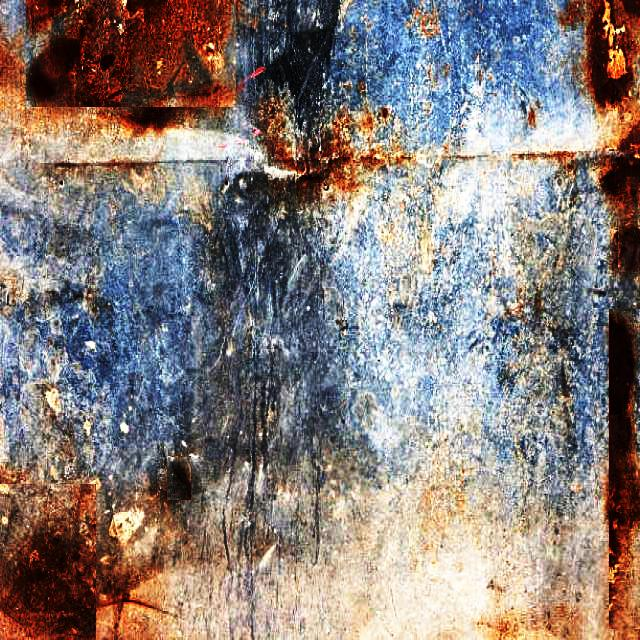Corrosion: (27, 0, 236, 106), (610, 315, 640, 572), (26, 0, 80, 105), (589, 0, 634, 104), (602, 122, 640, 198), (611, 315, 636, 420), (121, 107, 175, 130), (616, 227, 640, 272), (100, 53, 115, 70)
